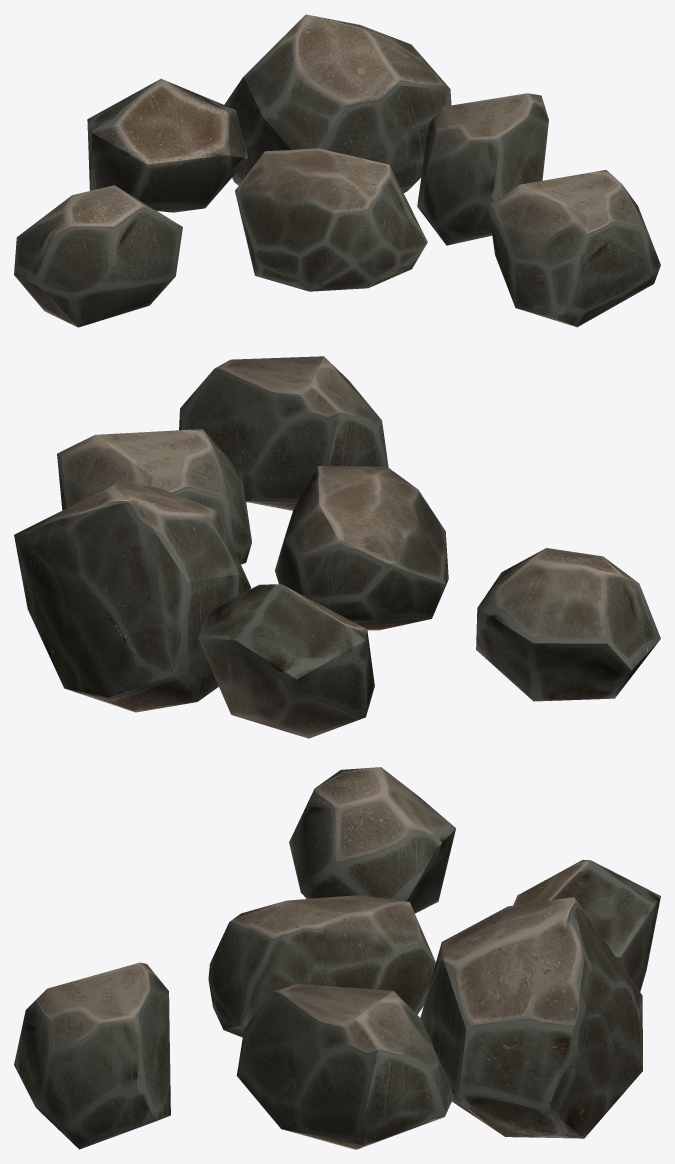
File: pebble_group_1.fbx
The picture shows the model from 3 angles, top to bottom: view 1: azimuth 30°, elevation 25°; view 2: azimuth 150°, elevation 25°; view 3: azimuth 270°, elevation 25°; orthographic projection. The views are drawn at different scales.
Parts seen in each view (by area): view 1: pebble_group_1; view 2: pebble_group_1; view 3: pebble_group_1.
Boxes of the visible parts, x1,y1,x2,y2 form: pebble_group_1: (14, 14, 660, 327); pebble_group_1: (14, 356, 660, 738); pebble_group_1: (14, 767, 660, 1149).
Bounding box in the file's own units: 1.42 × 0.4648 × 1.3.
